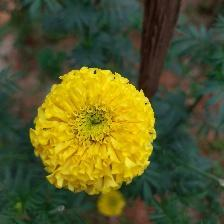marigold: (29, 68, 158, 196)
